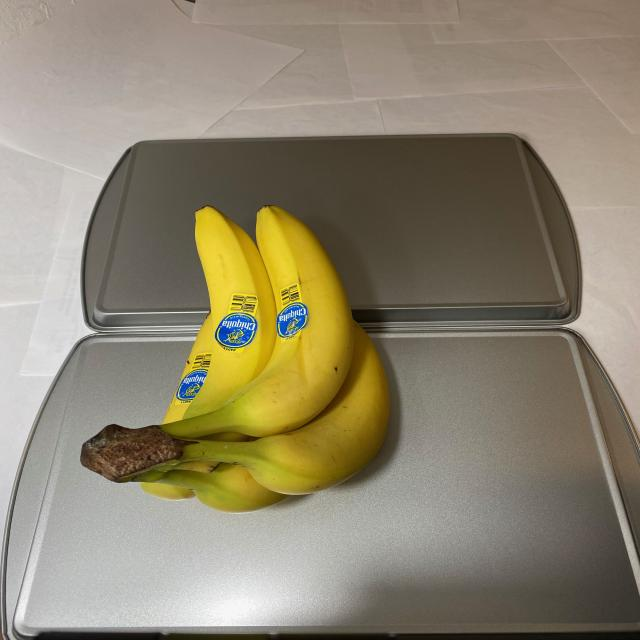banana: (70, 202, 406, 516)
